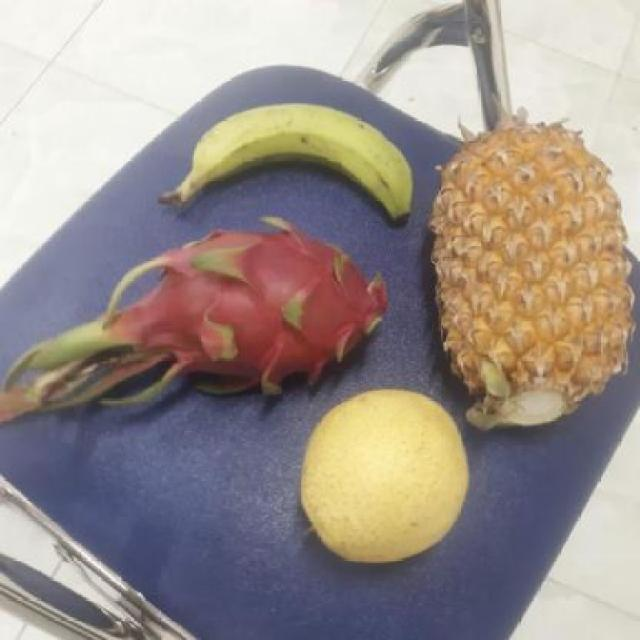banana: (182, 102, 420, 222)
dragon fruit: (119, 222, 416, 400)
pear: (295, 386, 474, 562)
pineapple: (428, 132, 638, 426)
